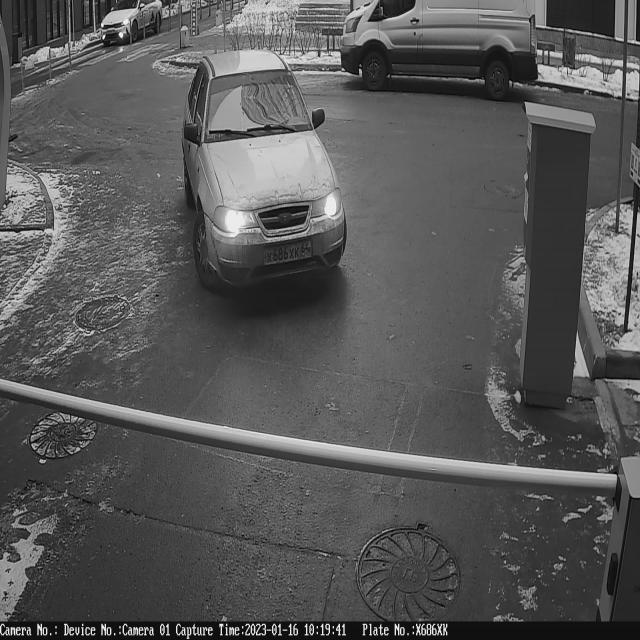car-plate-numbers: (261, 232, 315, 273)
